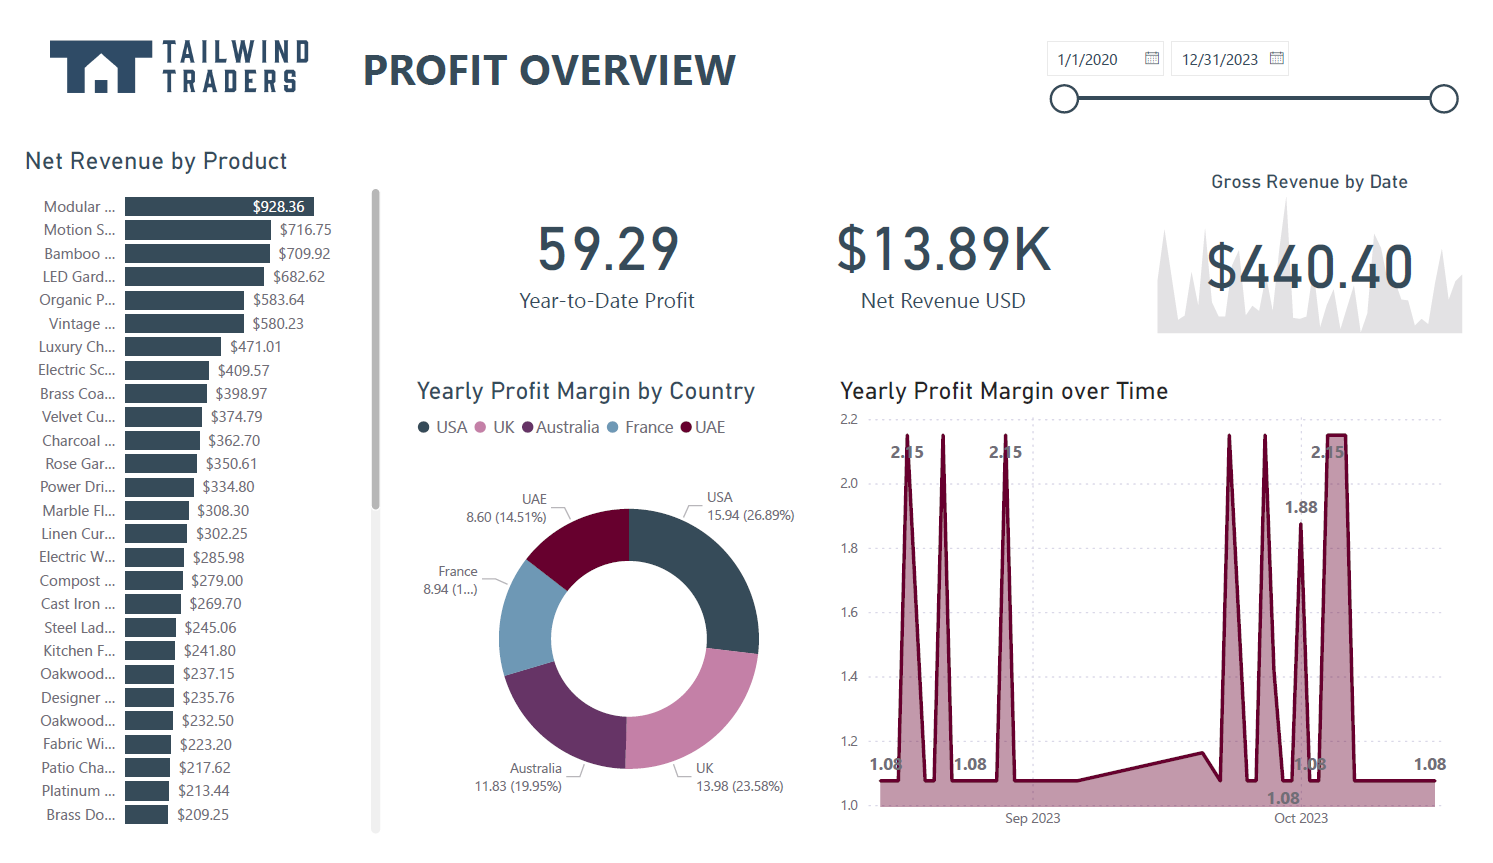

This screenshot's page, from the dashboard's own definition file:
{"tool":"powerbi","page":{"name":"Profit Overview","canvas":[1280,720],"ordinal":1},"visuals":[{"type":"clusteredBarChart","title":"Net Revenue by Product","fields":{"Category":["Sales in USD.Product Name"],"Y":["Sum(Sales in USD.Net Revenue USD)"]},"box":[0,159,574.7,243.3],"z":0},{"type":"donutChart","title":"Yearly Profit Margin by Country","fields":{"Category":["Sales in USD.Country Name"],"Y":["Sales in USD.Yearly Profit Margin"]},"box":[640.8,150.4,639.5,251.9],"z":1000},{"type":"areaChart","title":"Yearly Profit Margin over Time","fields":{"Category":["Calendar.Date"],"Y":["Sales in USD.Yearly Profit Margin"]},"box":[0,425.5,1280.3,294.7],"z":2000},{"type":"card","fields":{"Values":["Sales in USD.YTD Profit"]},"box":[311.2,5,182.5,135],"z":3000},{"type":"card","fields":{"Values":["Sum(Sales in USD.Net Revenue USD)"]},"box":[493.8,0,210,140],"z":4000},{"type":"kpi","title":"Gross Revenue by Date","fields":{"Indicator":["Sum(Sales in USD.Gross Revenue USD)"],"TrendLine":["Calendar.Date"]},"box":[703.8,13.8,307.5,112.5],"z":5000},{"type":"slicer","title":"Date","fields":{"Values":["Calendar.Date"]},"box":[1011.2,16.2,268.8,107.5],"z":6000},{"type":"image","box":[0,30,283.8,96.2],"z":6001}]}

Visuals, with their boxes in screenshot pixels (x1, y1, x2, y2), scaled from the page's 1280x720 canvas onto the 1493x863 screenshot:
"Net Revenue by Product" clusteredBarChart: bbox=[0, 191, 670, 482]
"Yearly Profit Margin by Country" donutChart: bbox=[747, 180, 1492, 482]
"Yearly Profit Margin over Time" areaChart: bbox=[0, 510, 1492, 862]
card - Sales in USD.YTD Profit: bbox=[363, 6, 576, 168]
card - Sum(Sales in USD.Net Revenue USD): bbox=[576, 0, 821, 168]
"Gross Revenue by Date" kpi: bbox=[821, 17, 1180, 151]
"Date" slicer: bbox=[1179, 19, 1492, 148]
image: bbox=[0, 36, 331, 151]
